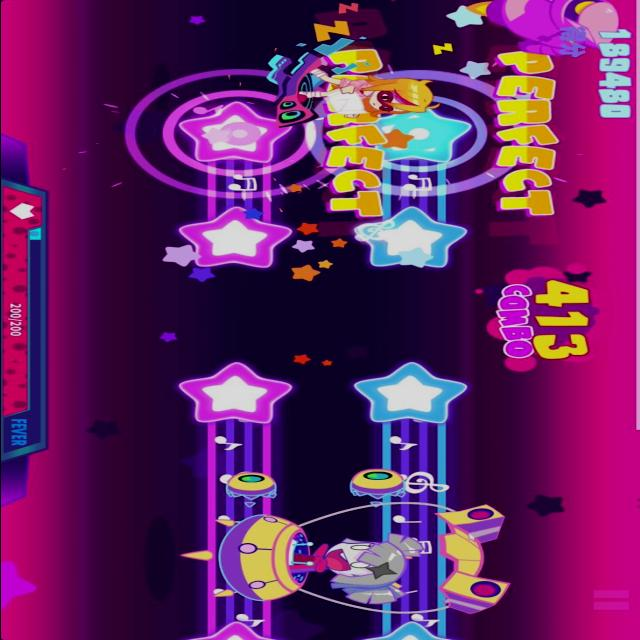hold: (342, 360, 482, 640), (176, 360, 292, 640), (354, 108, 474, 272), (178, 101, 290, 272)
